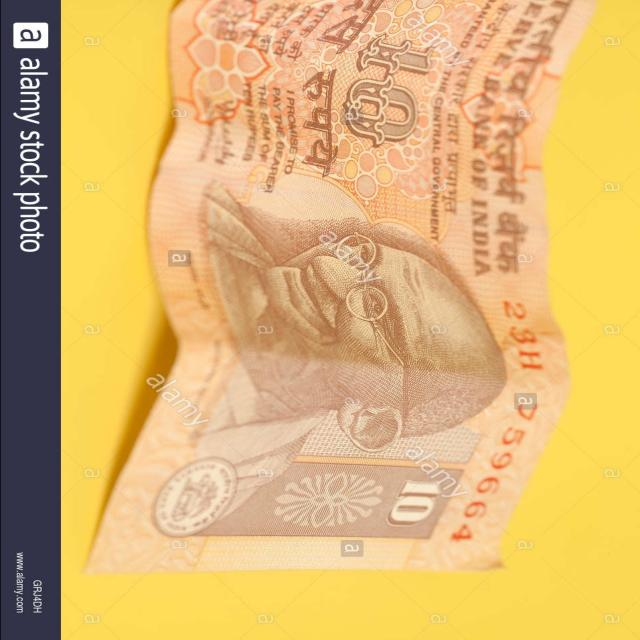10IndianRupees: (63, 1, 576, 578)
